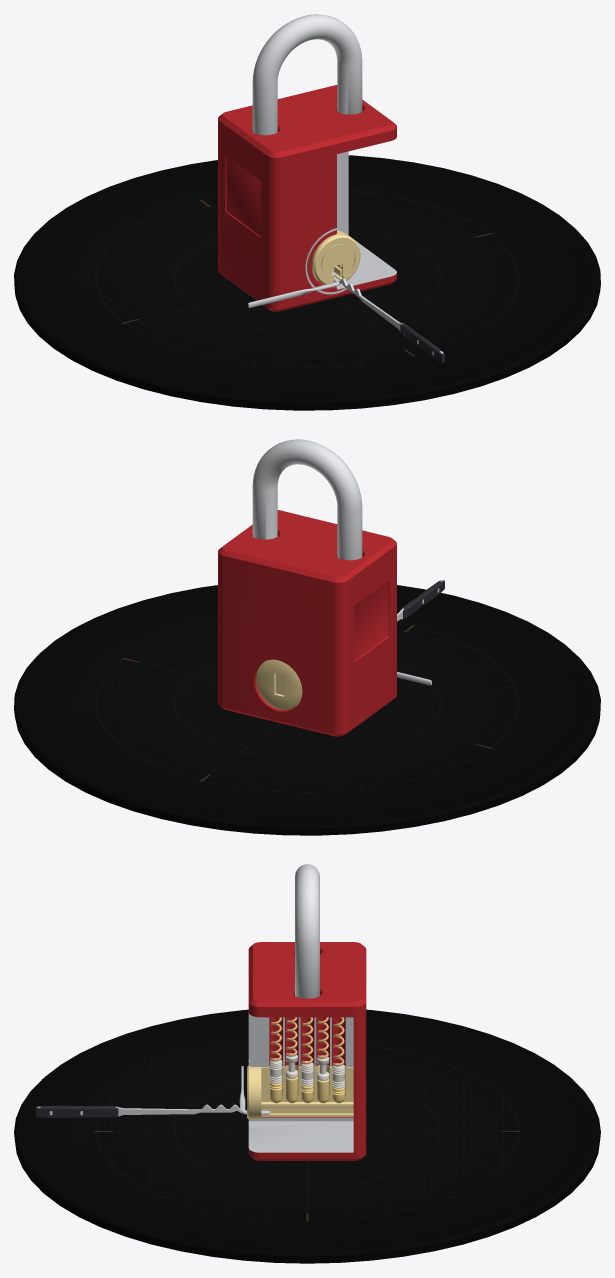
The model's file is american_1100_padlock.glb.
The picture shows the model from 3 angles, top to bottom: view 1: azimuth 30°, elevation 25°; view 2: azimuth 150°, elevation 25°; view 3: azimuth 270°, elevation 25°; orthographic projection.
Parts seen in each view (by area): view 1: Bench, Body_Cutaway, Shackle, Core_Plug, HookPick, TensionWrench; view 2: Bench, Body_Cutaway, Shackle, Core_Plug, HookPick; view 3: Bench, Body_Cutaway, Core_Plug, Shackle, HookPick, RakePick.
Boxes of the visible parts, left/top/right/bottom form: Bench: left=14, top=155, right=600, bottom=410; Body_Cutaway: left=218, top=85, right=396, bottom=311; Shackle: left=252, top=14, right=362, bottom=135; Core_Plug: left=311, top=230, right=360, bottom=284; HookPick: left=342, top=278, right=444, bottom=360; TensionWrench: left=248, top=276, right=340, bottom=307; Bench: left=14, top=585, right=600, bottom=835; Body_Cutaway: left=218, top=510, right=396, bottom=736; Shackle: left=252, top=439, right=362, bottom=560; Core_Plug: left=256, top=659, right=302, bottom=709; HookPick: left=397, top=580, right=444, bottom=619; Bench: left=14, top=1009, right=600, bottom=1263; Body_Cutaway: left=248, top=942, right=366, bottom=1160; Core_Plug: left=247, top=1065, right=353, bottom=1119; Shackle: left=295, top=864, right=319, bottom=998; HookPick: left=35, top=1104, right=236, bottom=1115; RakePick: left=35, top=1104, right=243, bottom=1117.
Size of the model in its own units: 1.5 by 0.7667 by 1.5.
11 materials, 1 textured.
